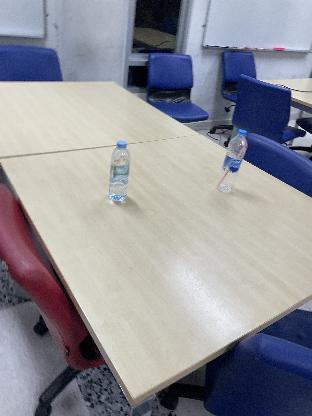Plastic Bottle: (218, 128, 247, 196), (109, 141, 131, 203)
